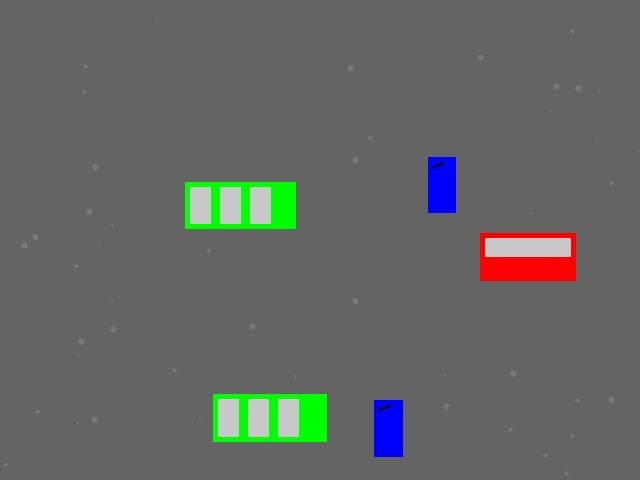bus: (213, 394, 326, 441), (185, 182, 295, 228)
car: (480, 233, 575, 280)
motorcycle: (374, 400, 402, 456), (428, 157, 455, 212)
